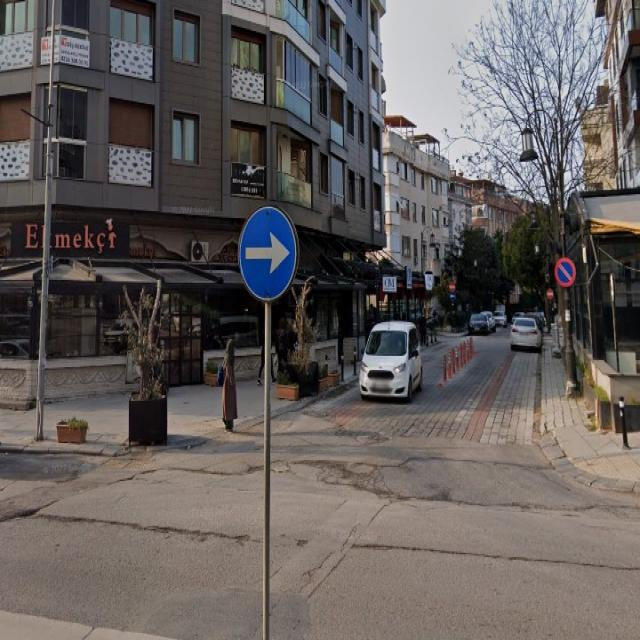Turn Right: (238, 214, 304, 300)
